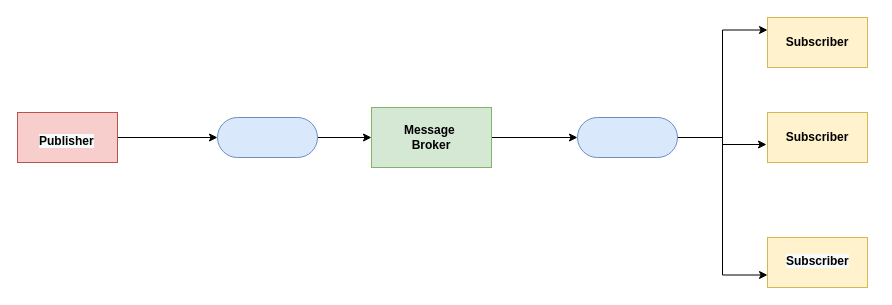
This 892x305 diagram has some shape labels left out. The box of each missing label's shape, as (x1, y1, x2, y2) in pixels:
Input Channel: (216, 116, 318, 158)
Output Channel: (576, 116, 678, 158)
